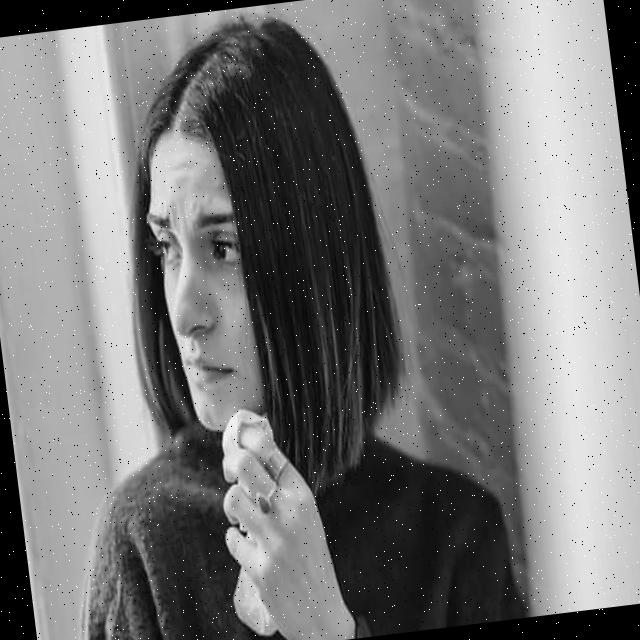Sadness: (139, 130, 267, 434)
